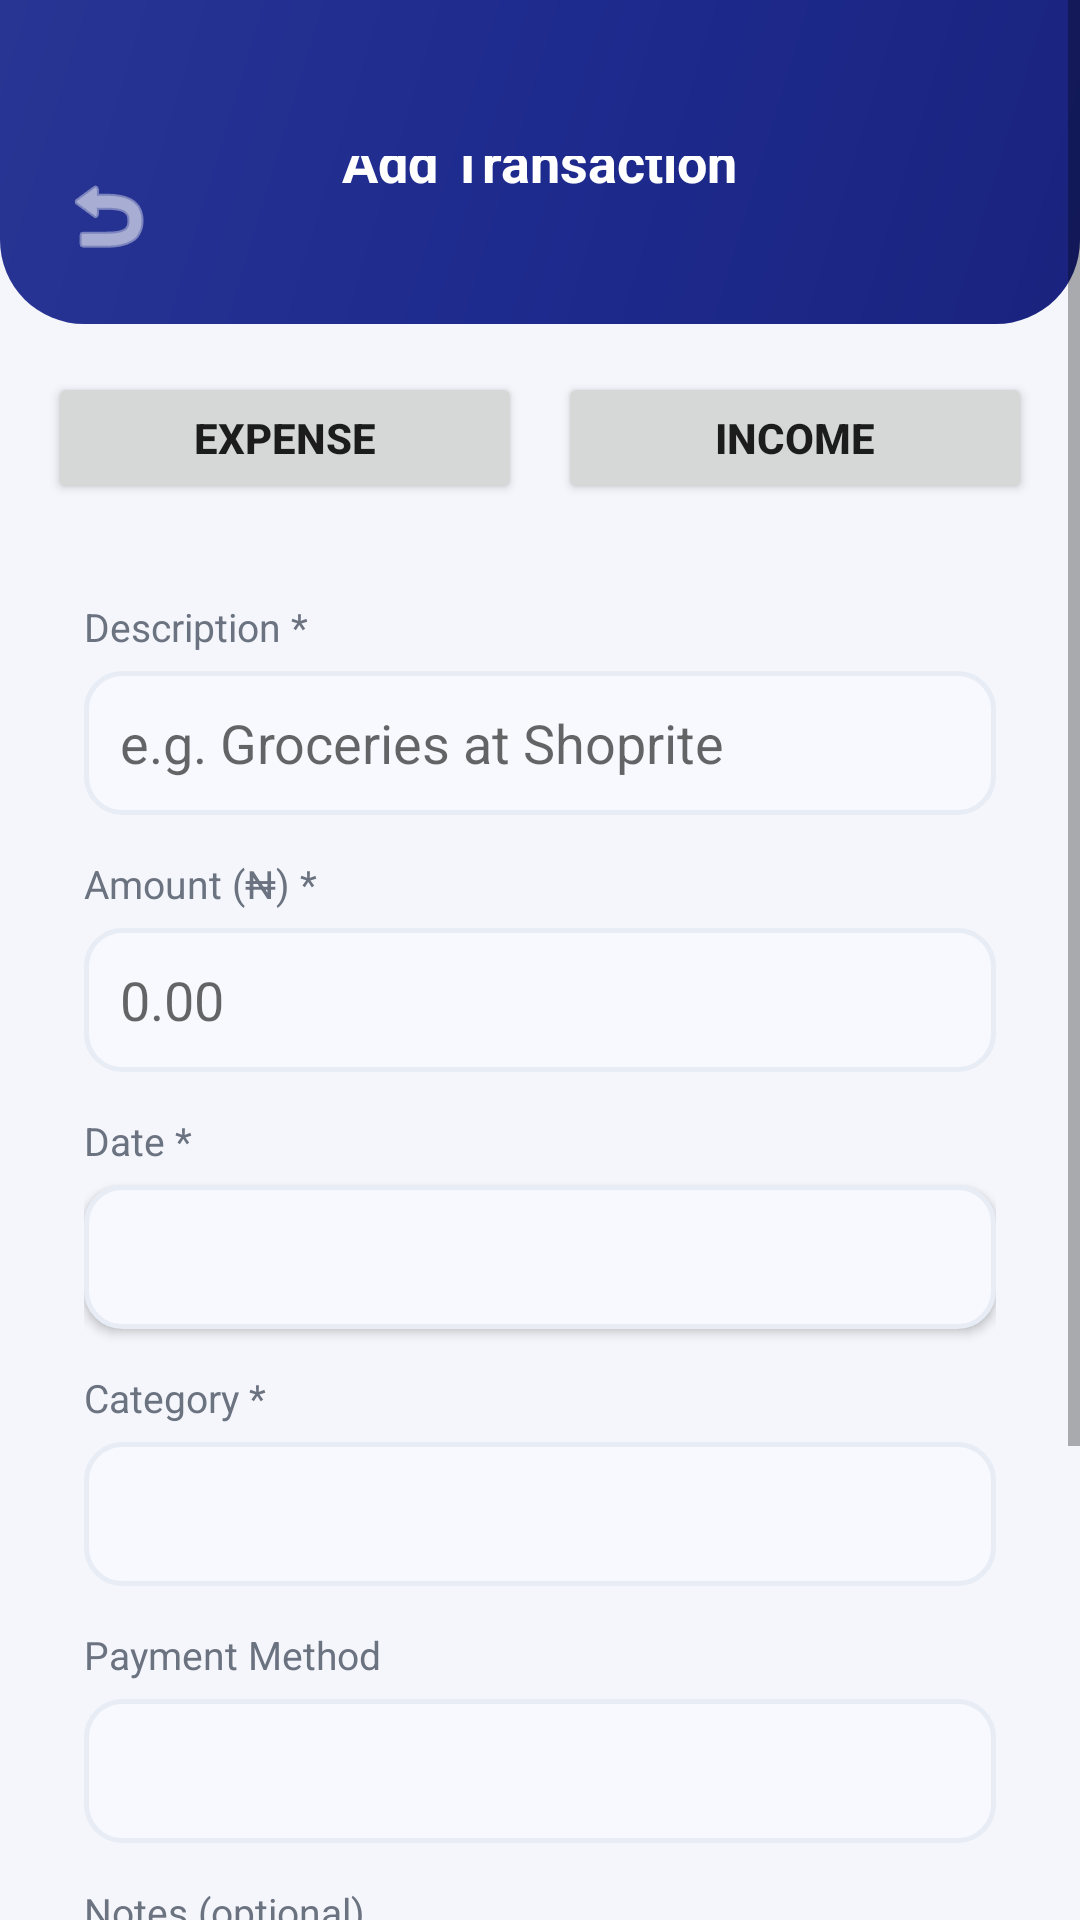

Locate icon controls on the screen. Image size 1080px×1920px, boxes as (x1, y1, x2, y2).
Back: (75, 185, 144, 248)
